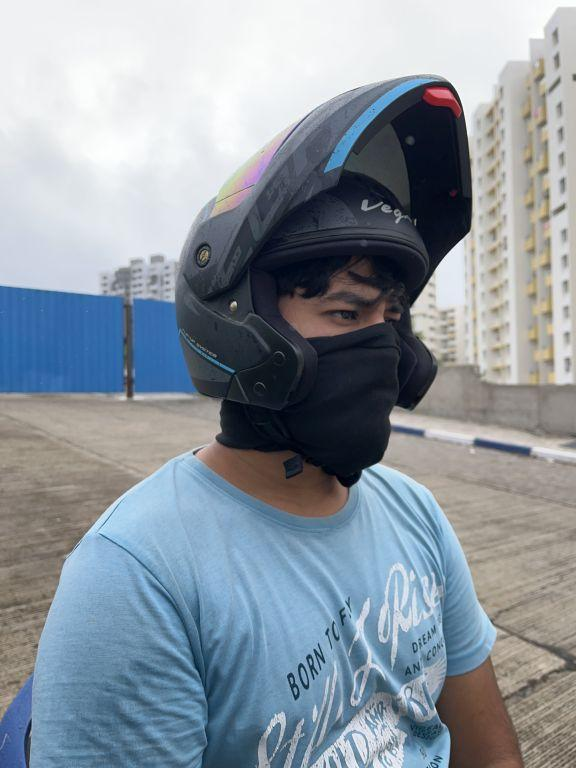helmet: (169, 54, 478, 501)
